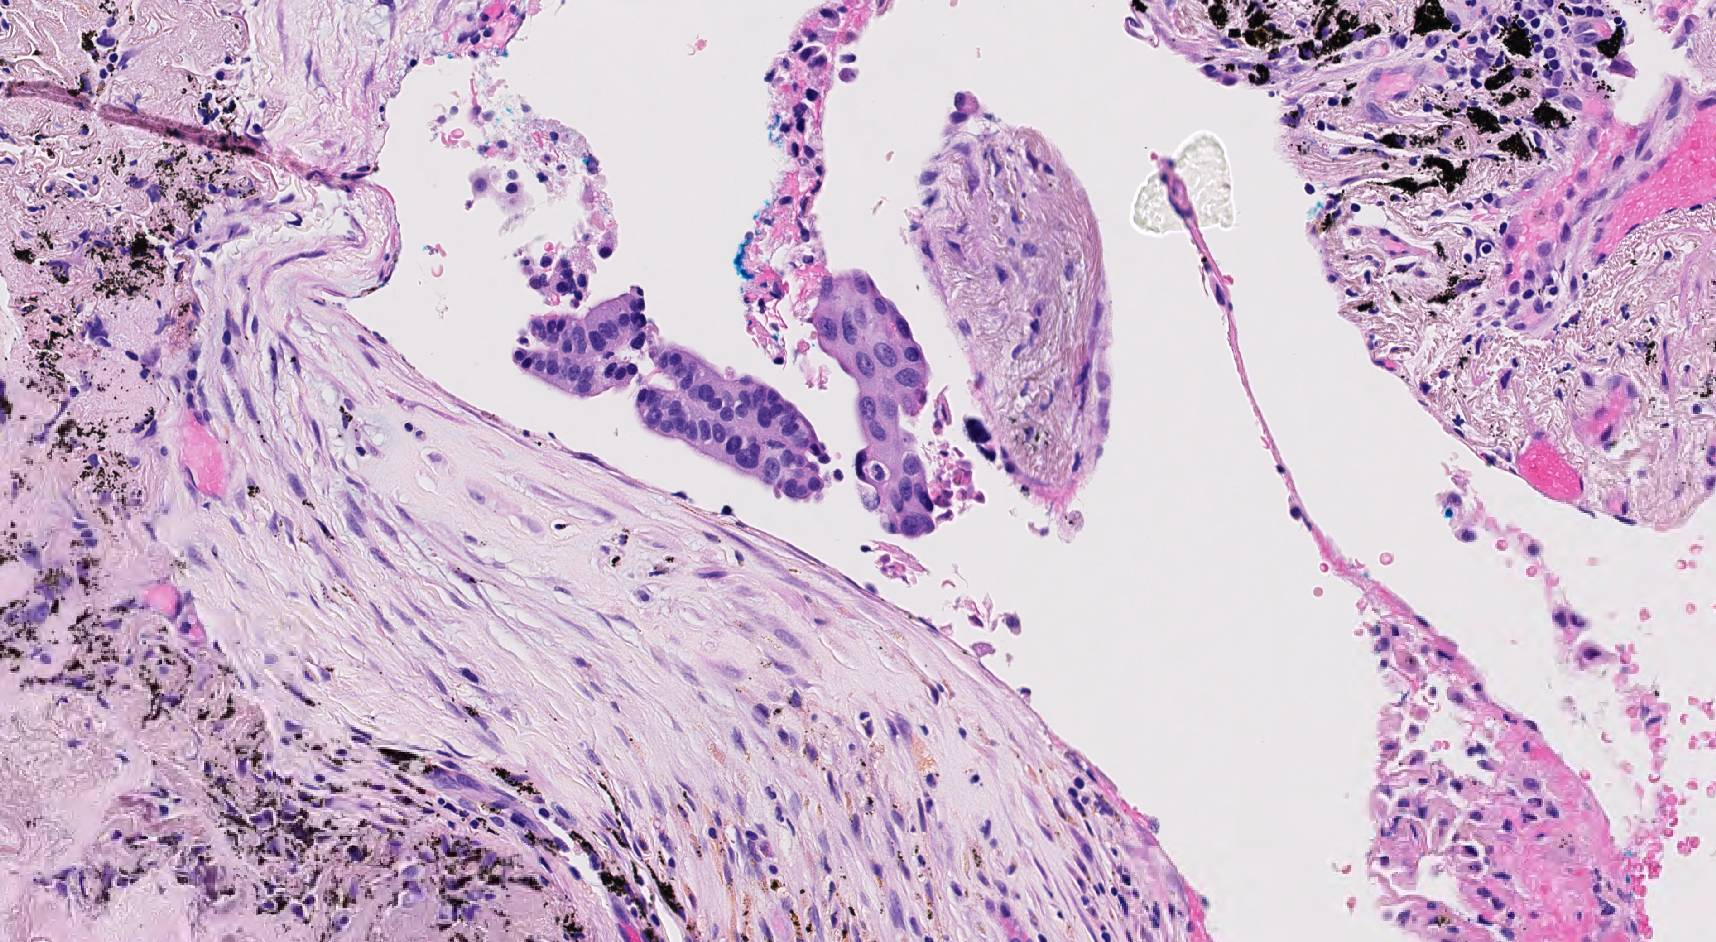stas: (813, 271, 941, 541), (638, 338, 831, 503), (500, 288, 645, 399)
